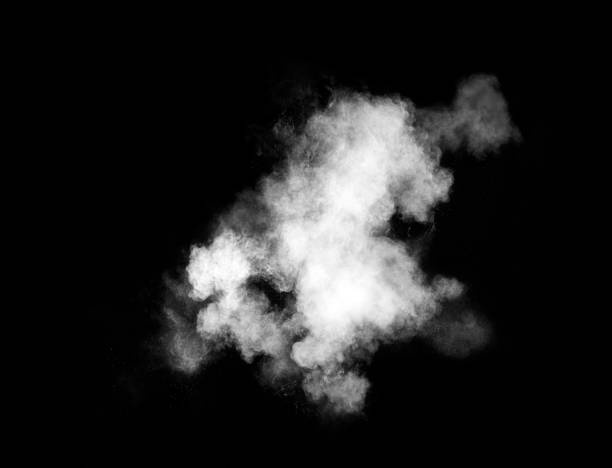smoke: (177, 86, 453, 416)
